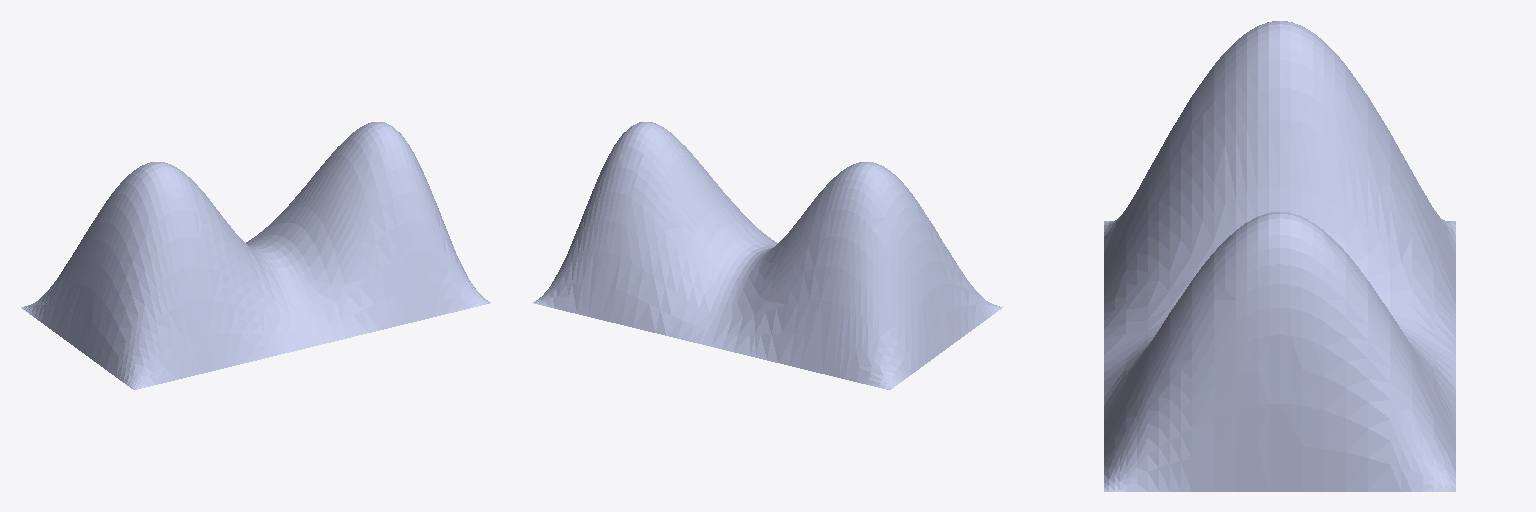
robot.urdf — sand_floor_v4:
<?xml version="1.0" encoding="utf-8"?>
<!-- This URDF was automatically created by SolidWorks to URDF Exporter! Originally created by [author] ([email redacted]) 
     Commit Version: 1.6.0-1-g15f4949  Build Version: 1.6.7594.29634
     For more information, please see http://wiki.ros.org/sw_urdf_exporter -->
<robot
  name="sand_floor_v4">
  <link
    name="base_link">
    <inertial>
      <origin
        xyz="0 0 0"
        rpy="0 0 0" />
      <mass
        value="0" />
      <inertia
        ixx="0"
        ixy="0"
        ixz="0"
        iyy="0"
        iyz="0"
        izz="0" />
    </inertial>
    <visual>
      <origin
        xyz="0 0 0"
        rpy="0 0 0" />
      <geometry>
        <mesh
          filename="package://sand_floor_v4/meshes/base_link.STL" />
      </geometry>
      <material
        name="">
        <color
          rgba="0.792156862745098 0.819607843137255 0.933333333333333 1" />
      </material>
    </visual>
    <collision>
      <origin
        xyz="0 0 0"
        rpy="0 0 0" />
      <geometry>
        <mesh
          filename="package://sand_floor_v4/meshes/base_link.STL" />
      </geometry>
    </collision>
  </link>
</robot>

--- Facts derived from the render (not from the file) ---
3 views of the same robot in one strip: view 1: azimuth 30°, elevation 25°; view 2: azimuth 150°, elevation 25°; view 3: azimuth 270°, elevation 25° (orthographic).
Robot: sand_floor_v4 — 1 links, 0 joints (none); root link base_link; default pose: every joint at zero.
Visible links, largest first — view 1: base_link; view 2: base_link; view 3: base_link.
Link boxes in pixels (x1=…): base_link: x1=21, y1=122, x2=490, y2=389; base_link: x1=533, y1=122, x2=1002, y2=389; base_link: x1=1104, y1=21, x2=1455, y2=491.
Size in the robot's own frame: 0.0727 by 0.04 by 0.0322 metres.
Meshes: 1 distinct files referenced, 1 mesh visuals loaded (1 binary STL).